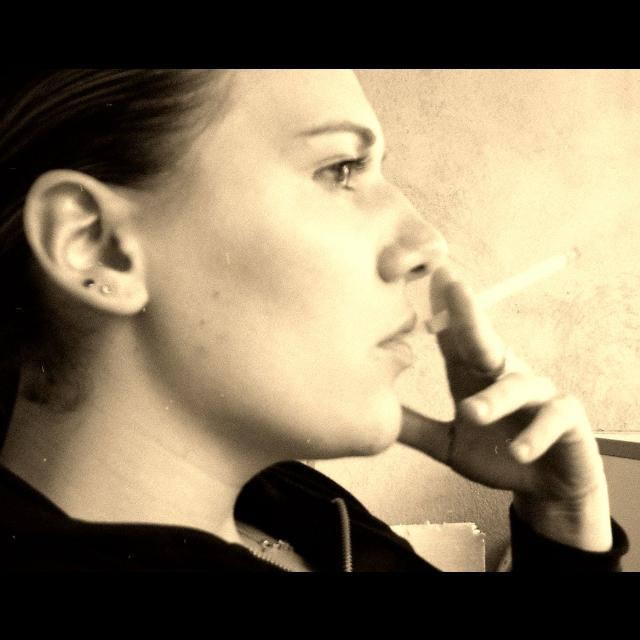rokok: (437, 230, 583, 340)
